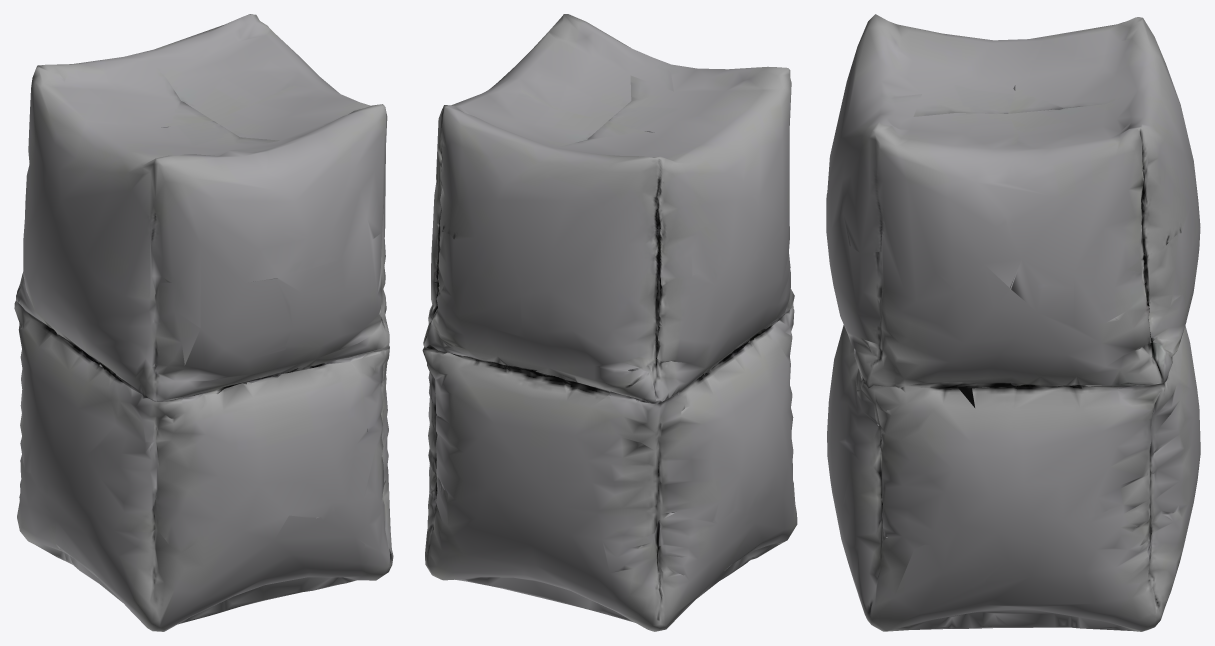
File: 02_1_gs_pv_i_vase-opt-v4.glb
The picture shows the model from 3 angles, left to right: view 1: azimuth 30°, elevation 25°; view 2: azimuth 150°, elevation 25°; view 3: azimuth 270°, elevation 25°; orthographic projection. The views are drawn at different scales.
Visible parts, largest first — view 1: tripo_material_97adc788-33a5-40f7-9c32-e552af57e506; view 2: tripo_material_97adc788-33a5-40f7-9c32-e552af57e506; view 3: tripo_material_97adc788-33a5-40f7-9c32-e552af57e506.
Boxes of the visible parts, bbox=[...] form: tripo_material_97adc788-33a5-40f7-9c32-e552af57e506: bbox=[14, 14, 393, 631]; tripo_material_97adc788-33a5-40f7-9c32-e552af57e506: bbox=[422, 14, 797, 631]; tripo_material_97adc788-33a5-40f7-9c32-e552af57e506: bbox=[826, 14, 1200, 631].
Size of the model in its own units: 0.1701 by 0.2502 by 0.1688.
1 material, 1 textured.
